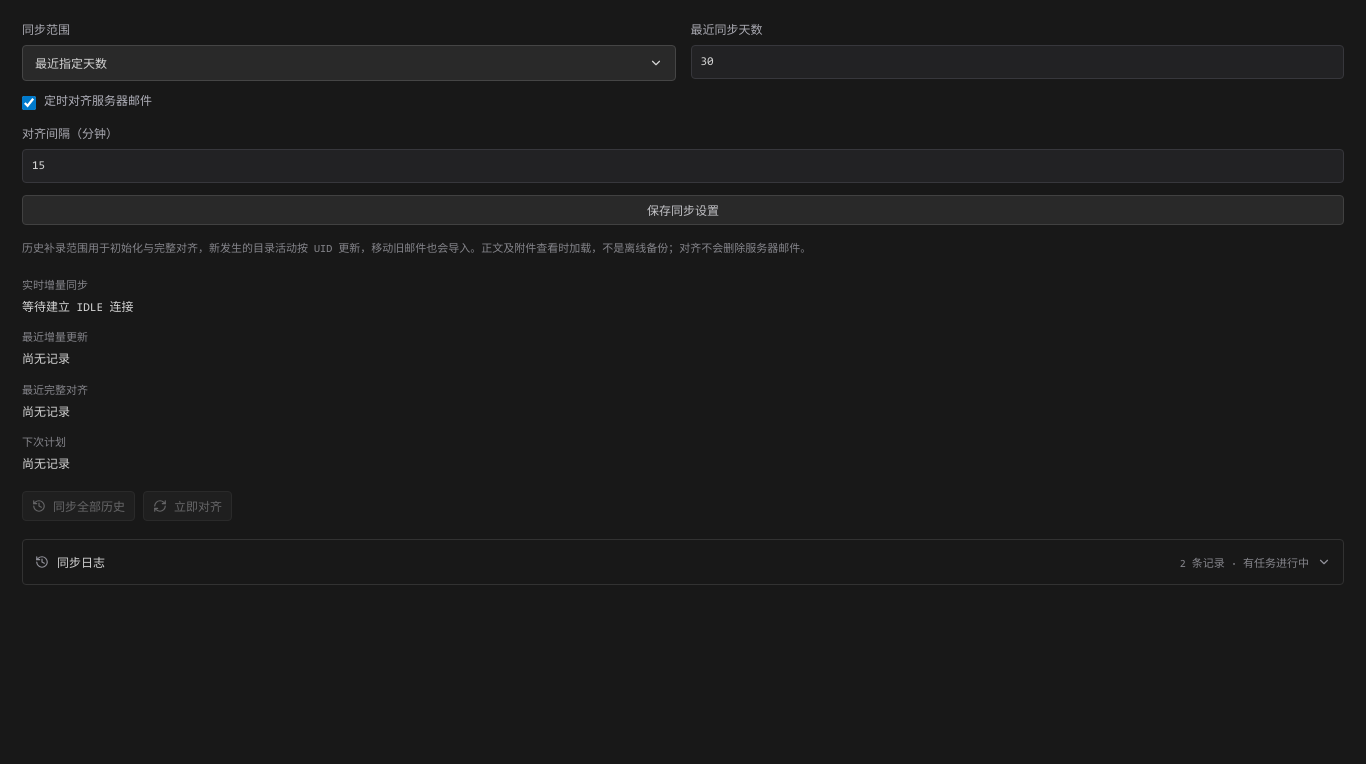
Test case: 区分首次列表同步与后续完整任务的正文附件下载进度
Click the text "同步日志" at (81, 562), box left=57, top=553, right=105, bottom=571
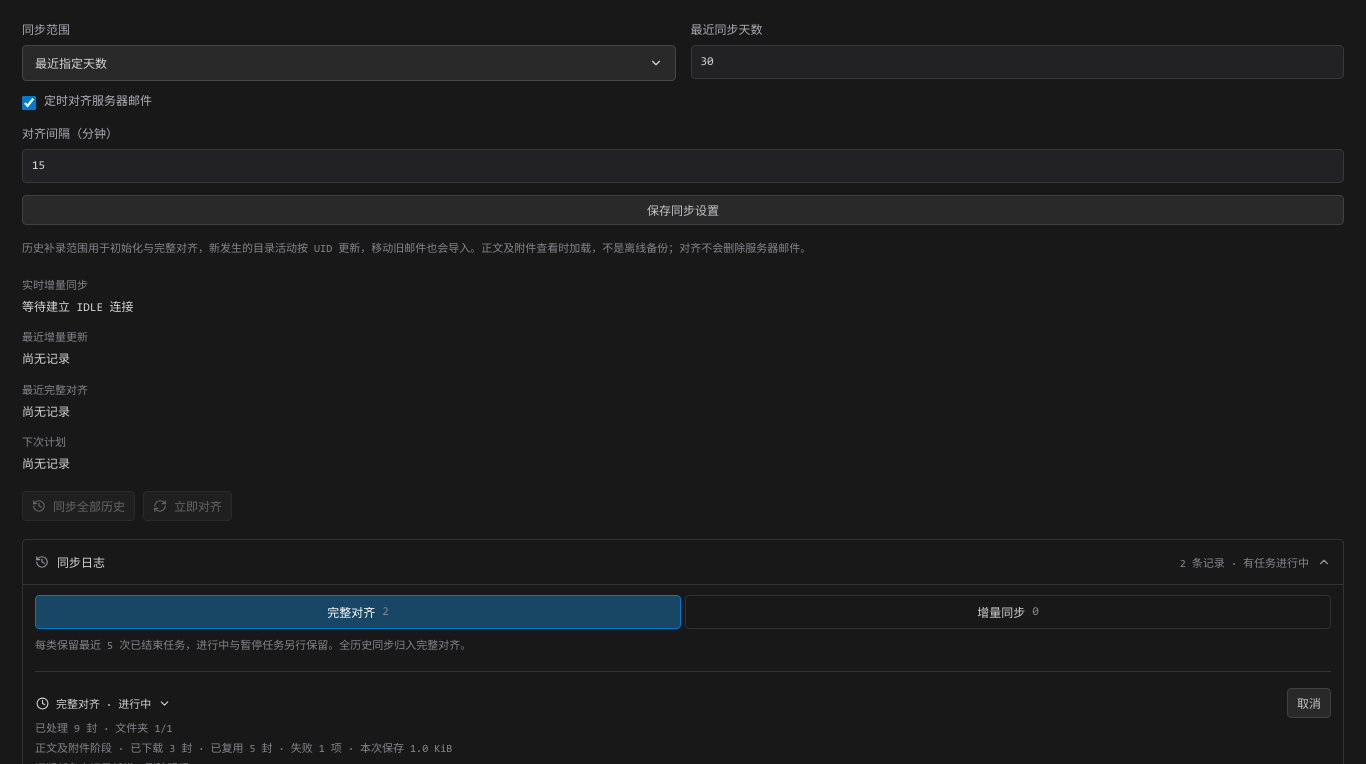
Now the text "正文及附件阶段 · 已下载 3 封 · 已复用 5 封 · 失败 1 项 · 本次保存 1.0 KiB" is shown, box left=35, top=744, right=452, bottom=755
Click the button "完整对齐 · 进行中" at (104, 703), box left=35, top=686, right=172, bottom=720
(page scrolled)
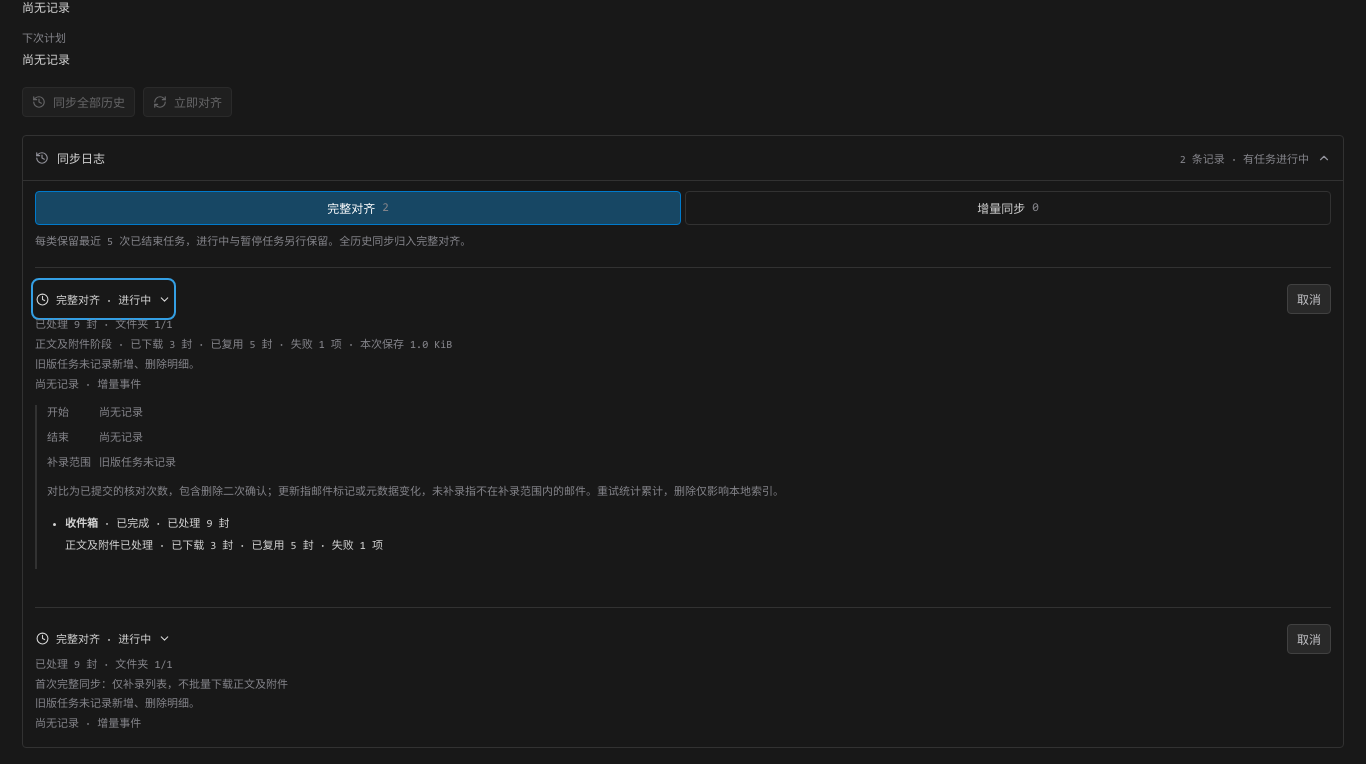
Now the text "正文及附件已处理 · 已下载 3 封 · 已复用 5 封 · 失败 1 项" is shown, box left=65, top=541, right=383, bottom=552
